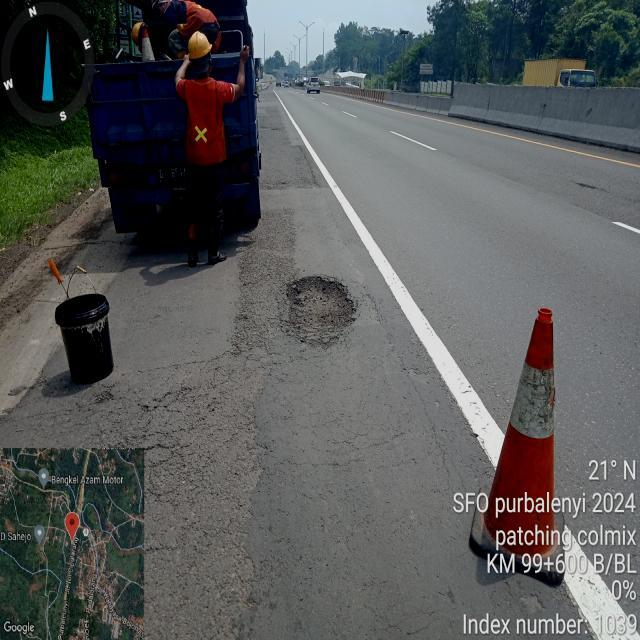Buraco: (282, 274, 360, 352), (574, 181, 600, 191)
